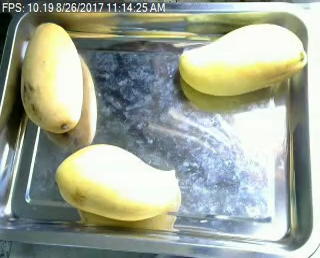Mango: (56, 144, 182, 219), (179, 22, 306, 96), (19, 22, 85, 132)
